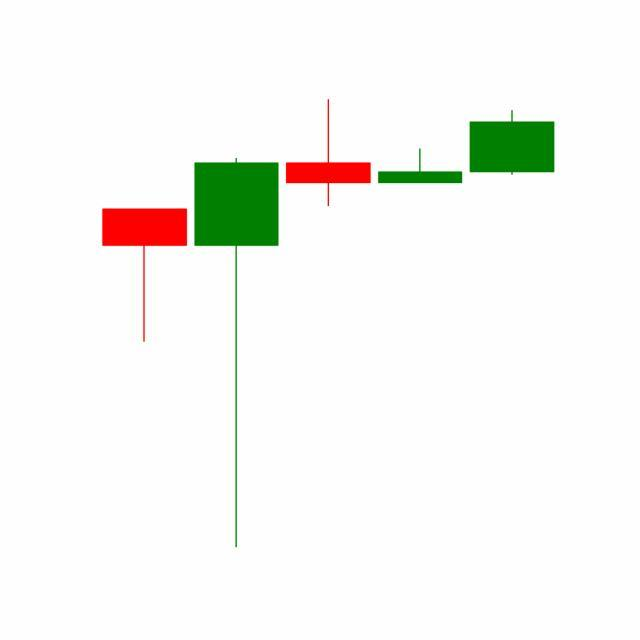Gravestone Doji: (374, 149, 468, 184)
